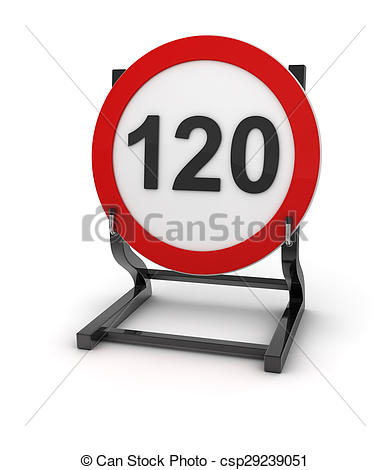Speed_limit_120km: (89, 34, 321, 278)
